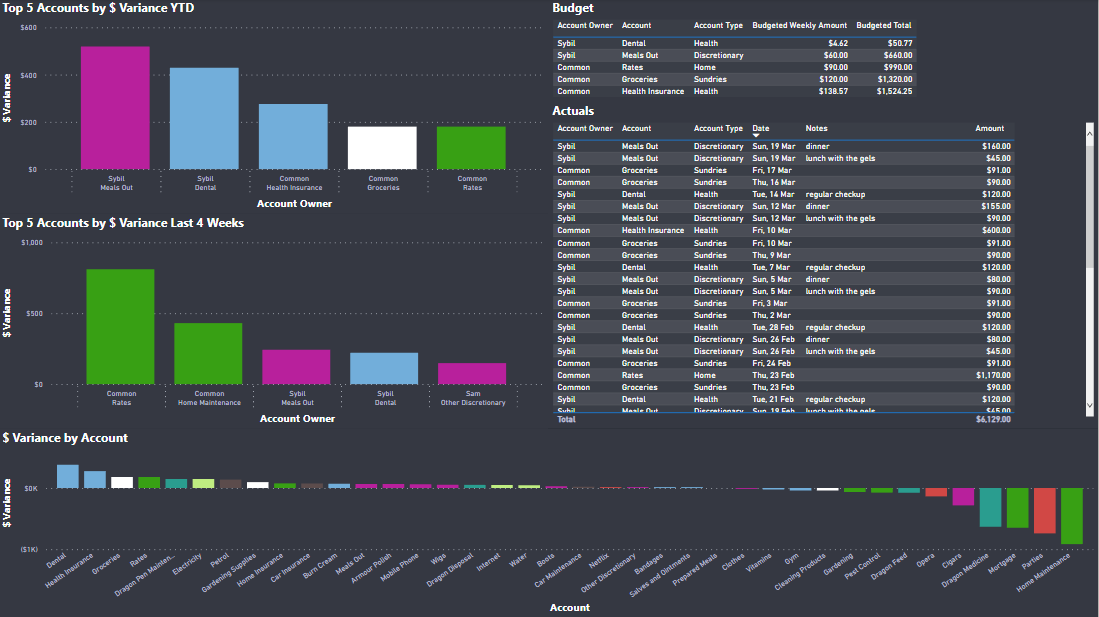

What the dashboard file says about the page in this screenshot:
{"tool":"powerbi","page":{"name":"Highlights","canvas":[1280,720],"ordinal":1},"visuals":[{"type":"clusteredColumnChart","title":"Top 5 Accounts by $ Variance YTD","fields":{"Y":["_measures.$ Variance"],"Category":["Account.Account","Account.Account Owner"]},"box":[0,0,640.1,250],"z":0},{"type":"clusteredColumnChart","title":"Top 5 Accounts by $ Variance Last 4 Weeks","fields":{"Y":["_measures.$ Variance"],"Category":["Account.Account","Account.Account Owner"]},"box":[0,250,640.1,250],"z":1000},{"type":"columnChart","title":"$ Variance by Account","fields":{"Category":["Account.Account"],"Y":["_measures.$ Variance"]},"box":[0,500,1280.1,220],"z":2000},{"type":"tableEx","title":"Actuals","fields":{"Values":["Account.Account Owner","Account.Account","Account.Account Type","Actuals.Date","Actuals.Notes","Sum(Actuals.Amount)"]},"box":[640.1,120,640.1,380],"z":3000},{"type":"tableEx","title":"Budget","fields":{"Values":["Account.Account Owner","Account.Account","Account.Account Type","Budget.Budgeted Weekly Amount","_measures.$ Budget"]},"box":[640.1,0,640.1,120],"z":4000}]}

Visuals, with their boxes in screenshot pixels (x1, y1, x2, y2), scaled from the page's 1280x720 canvas onto the 1099x617 screenshot:
"Top 5 Accounts by $ Variance YTD" clusteredColumnChart: 0,0,550,214
"Top 5 Accounts by $ Variance Last 4 Weeks" clusteredColumnChart: 0,214,550,428
"$ Variance by Account" columnChart: 0,428,1098,616
"Actuals" tableEx: 550,103,1098,428
"Budget" tableEx: 550,0,1098,103
